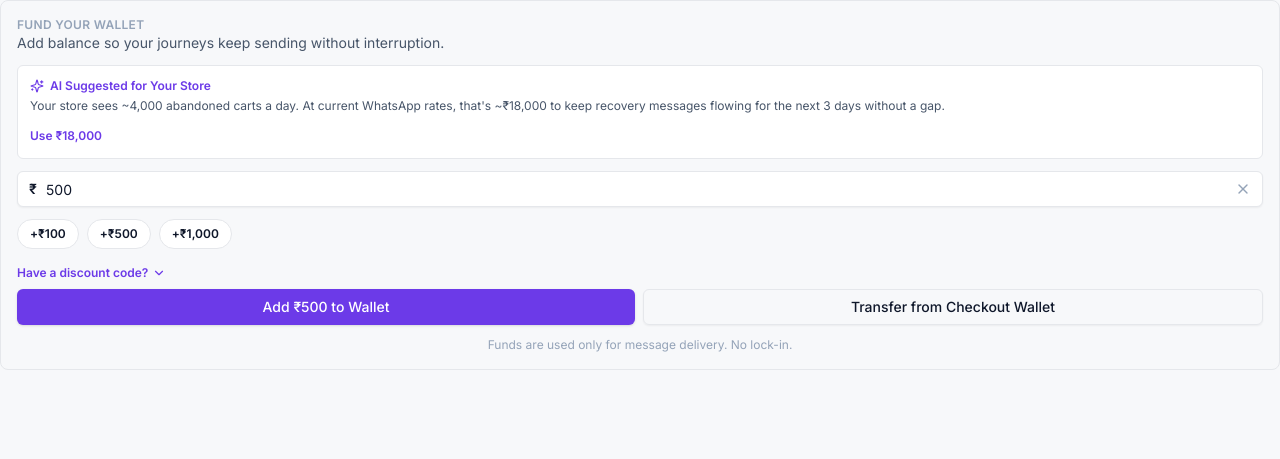
Scenario: WalletRechargeCard › shows an inline error for an invalid coupon and applies no bonus
Click the button with test id "wallet-recharge-discount-toggle".
click(92, 273)  # box top-left (17, 265), bottom-right (166, 281)
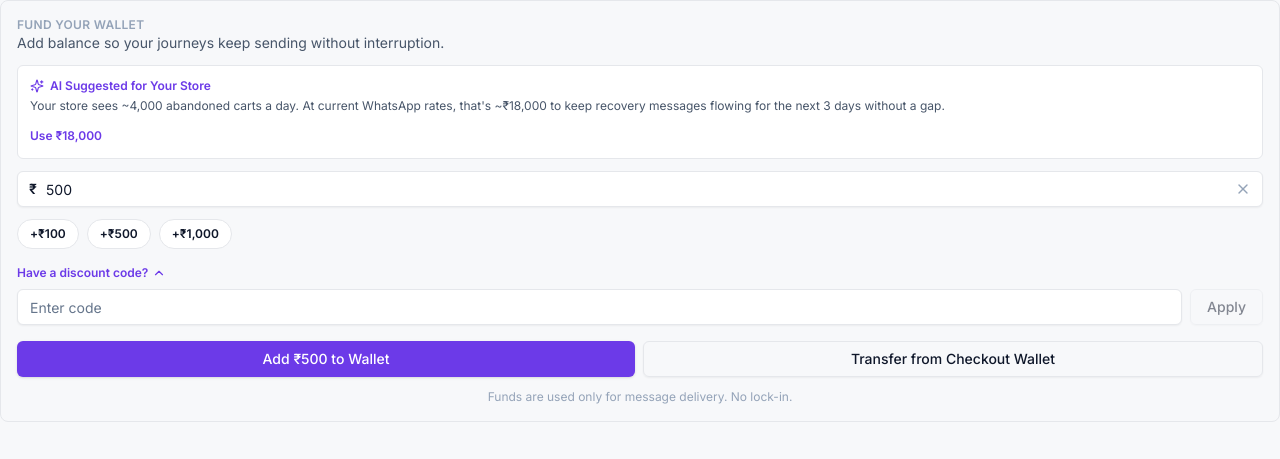
Type "BOGUS" into the field with test id "wallet-recharge-coupon-input".
click(600, 307); type("BOGUS")  # box top-left (17, 289), bottom-right (1182, 325)
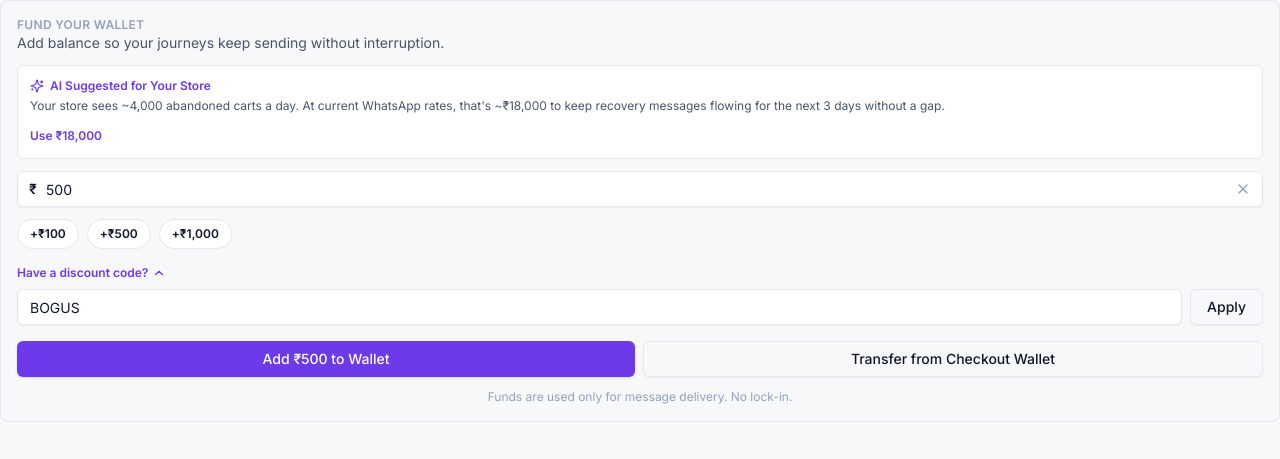
Click the button with test id "wallet-recharge-coupon-apply".
click(1227, 307)  # box top-left (1190, 289), bottom-right (1263, 325)
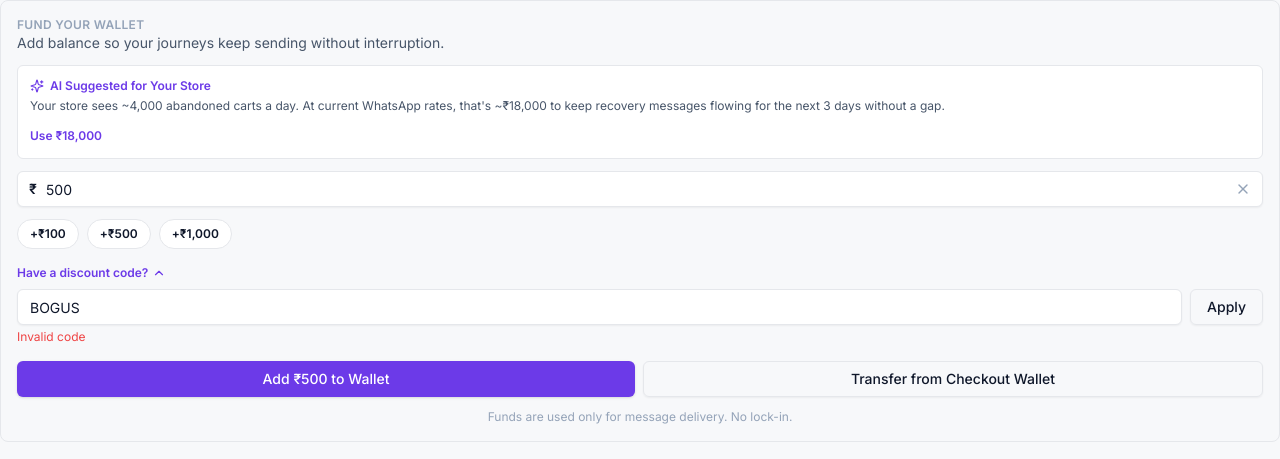
Expected: the text with test id "wallet-recharge-coupon-error" reads "Invalid code", top-left (17, 329), bottom-right (86, 344)
